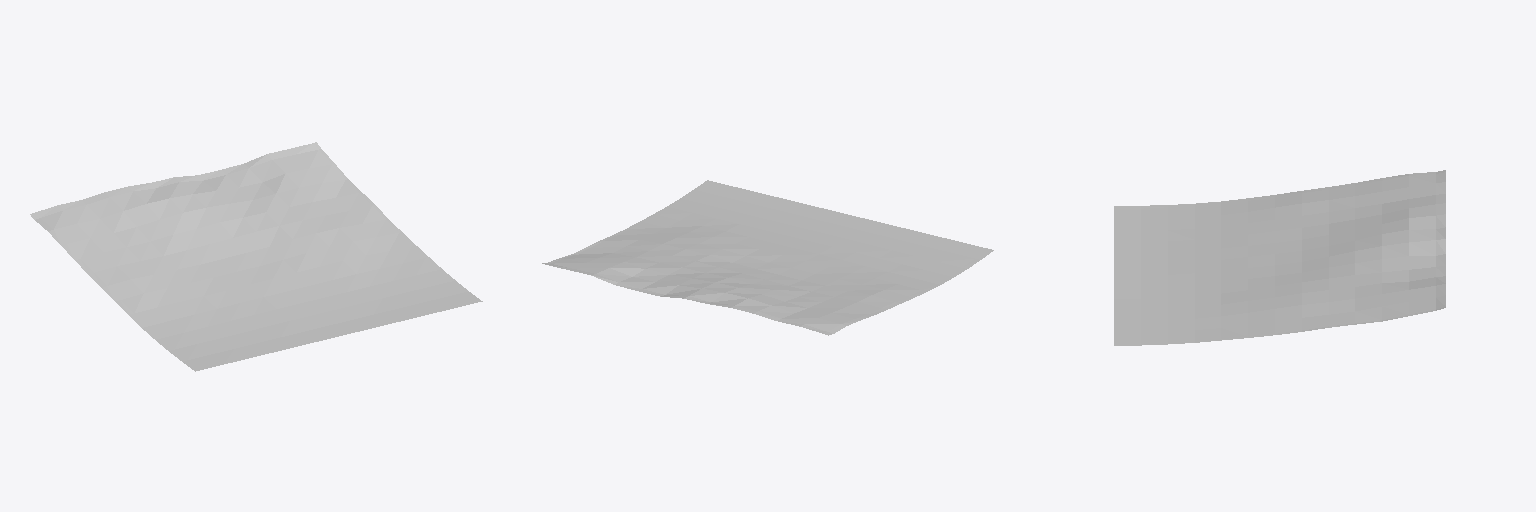
File: Landscape.020.obj
3 views of the same model, side by side, from view 1: azimuth 30°, elevation 25°; view 2: azimuth 150°, elevation 25°; view 3: azimuth 270°, elevation 25° (orthographic).
Parts seen in each view (by area): view 1: Landscape.020; view 2: Landscape.020; view 3: Landscape.020.
Boxes of the visible parts, x1,y1,x2,y2 form: Landscape.020: [30, 142, 482, 371]; Landscape.020: [542, 180, 993, 335]; Landscape.020: [1114, 170, 1445, 345].
Size of the model in its own units: 32 by 4.23 by 32.